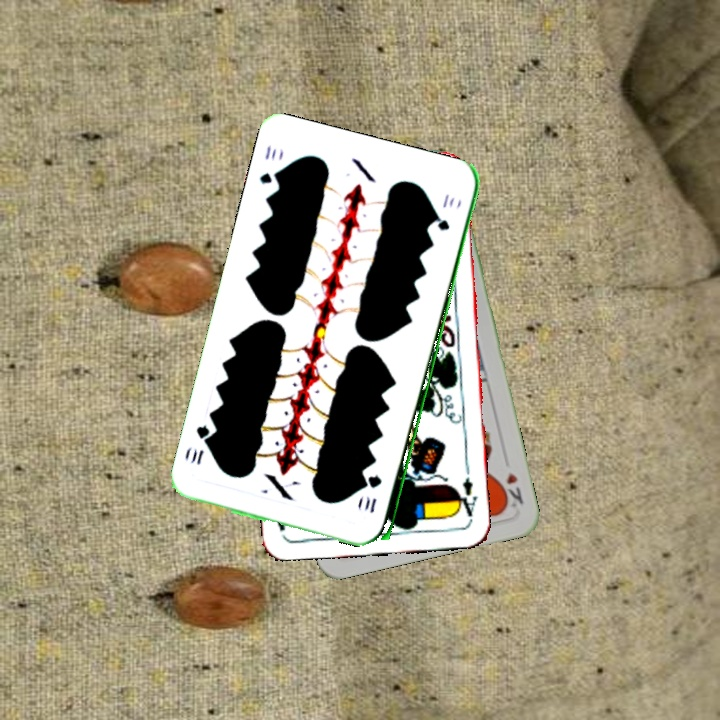EA: (453, 473, 480, 524)
G10: (255, 141, 284, 188), (360, 471, 384, 516)
HK: (496, 468, 526, 513)
